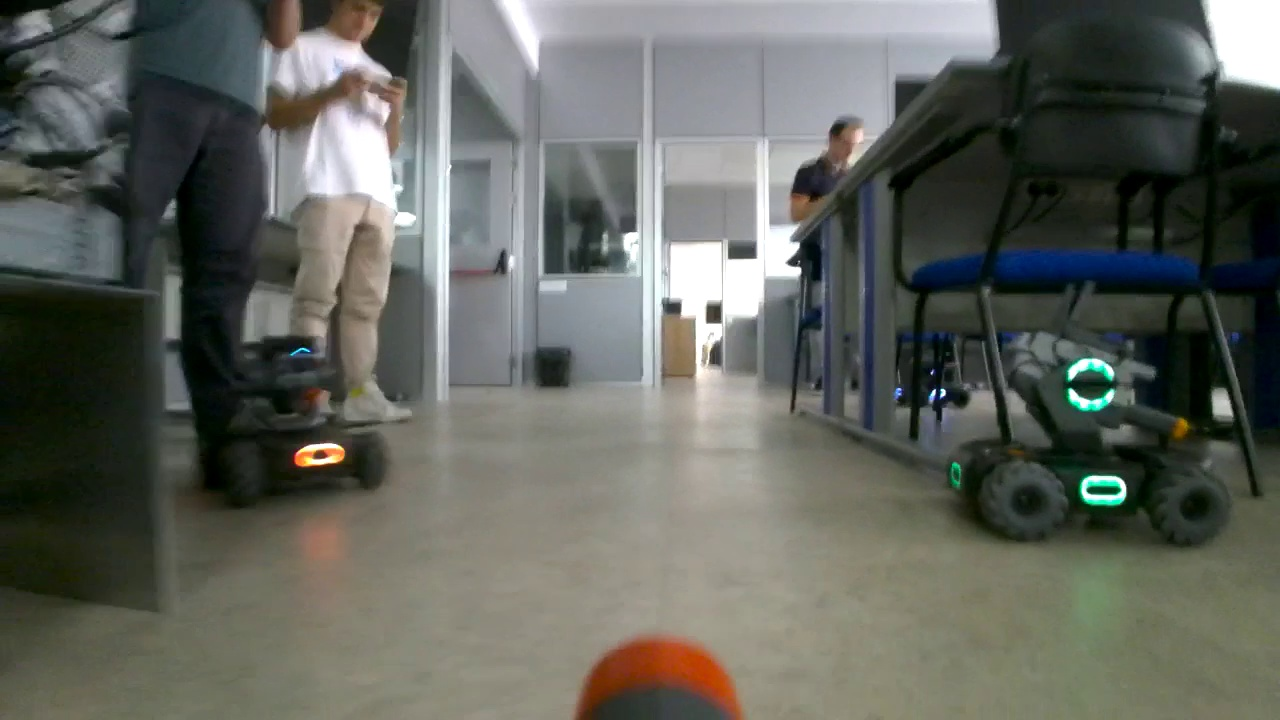robot: (954, 280, 1231, 548), (205, 317, 387, 503), (893, 333, 968, 408)
